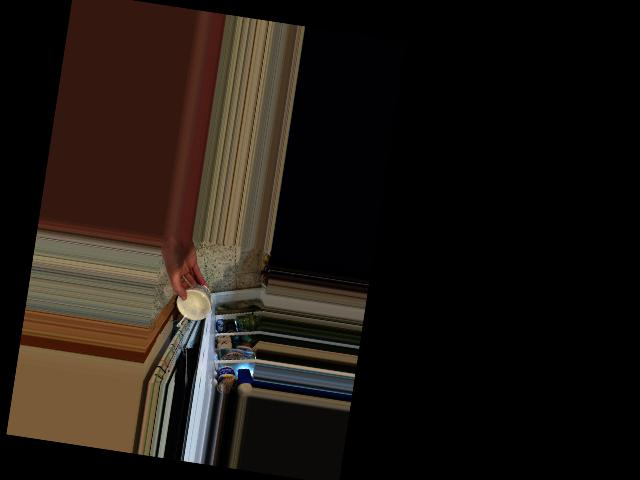cotage: (177, 286, 212, 326)
